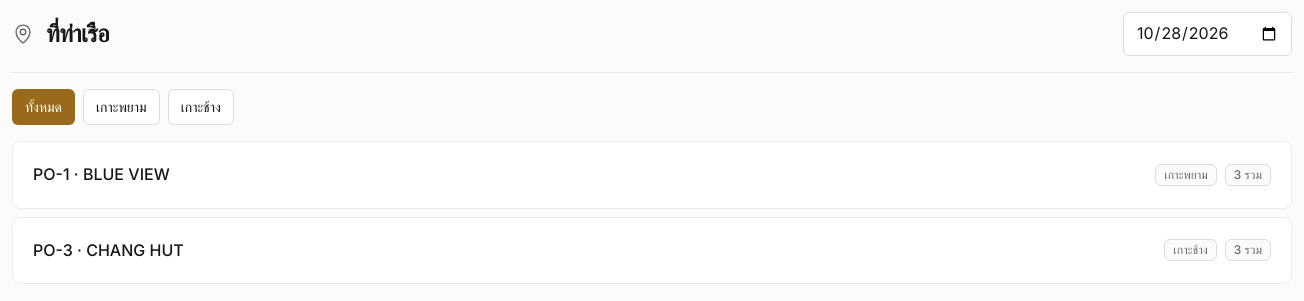
Test: a day with two islands gets island chips that filter the list
Expected: the button "PO-3 · CHANG HUT เกาะช้าง 3 รวม" is shown, [12,217,1292,284]
Click the button "เกาะช้าง". click: click(201, 107)
box: [168,89,234,125]
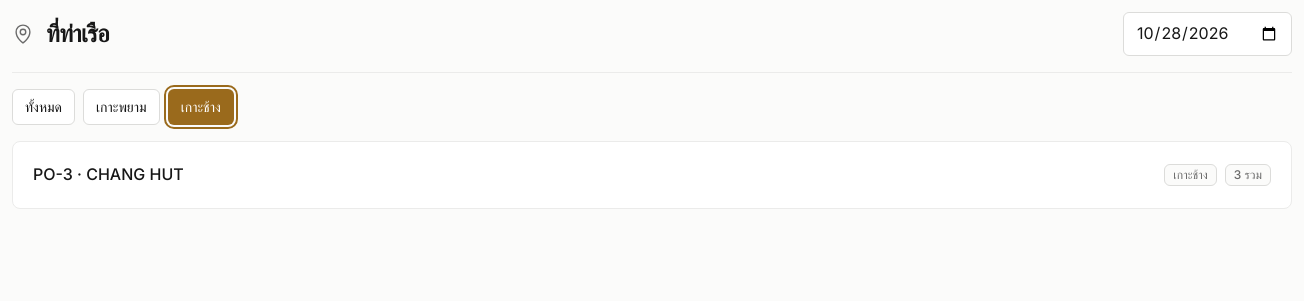
Expected: the button "PO-3 · CHANG HUT เกาะช้าง 3 รวม" is shown, [12,141,1292,209]
Expected: the button "PO-1" is gone
